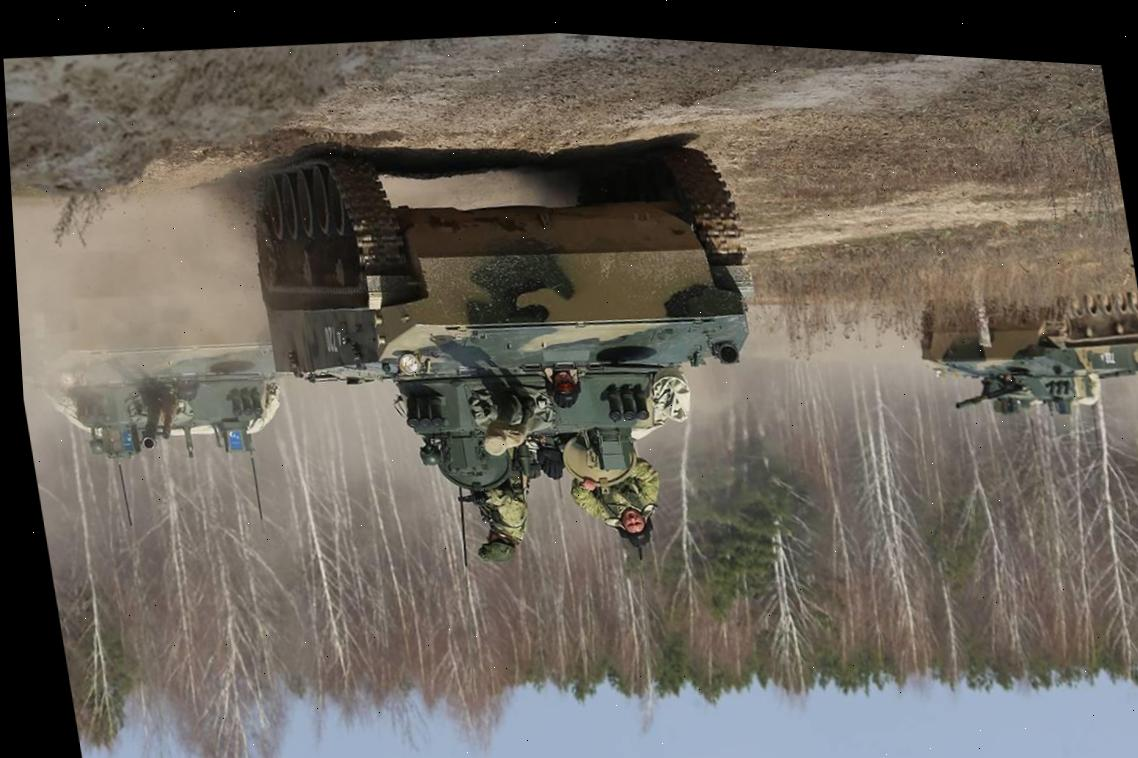tank: (227, 91, 802, 543), (13, 213, 304, 479), (909, 274, 1138, 436)
